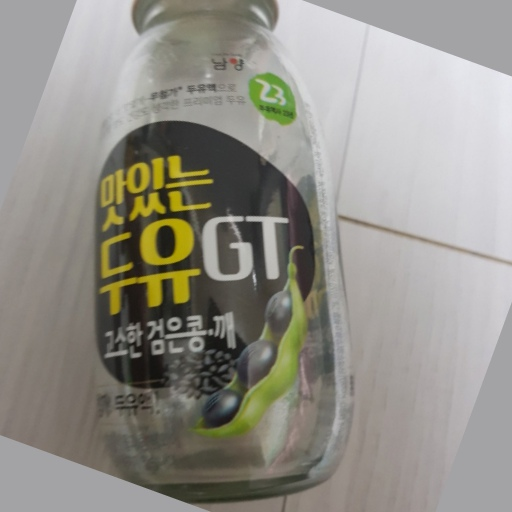Glass_4: (96, 2, 355, 498)
